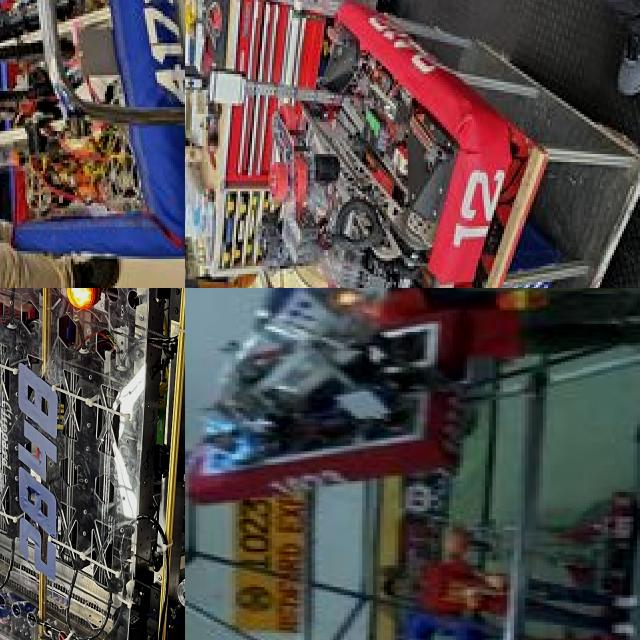FRC-Robots: (222, 0, 543, 288), (0, 288, 185, 640), (185, 288, 468, 507), (0, 0, 185, 270)
